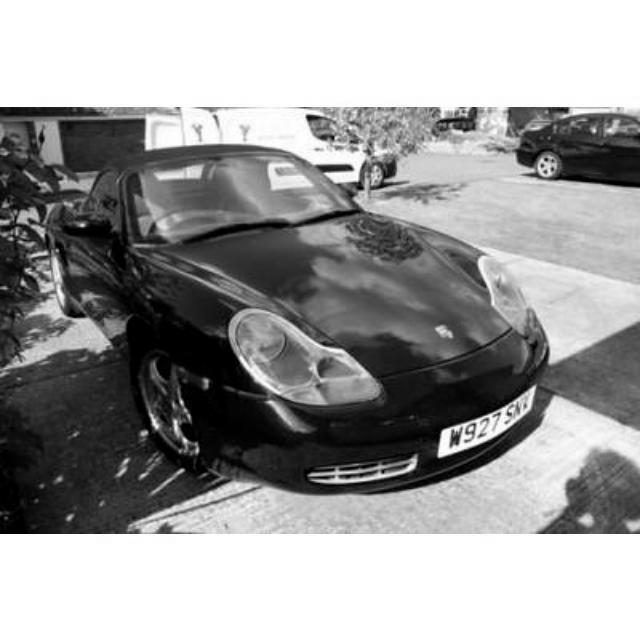bonnet-dent: (370, 287, 483, 354)
